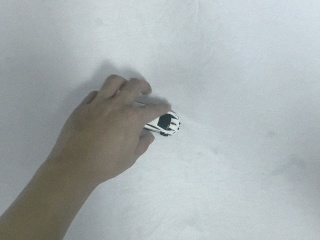phone: (143, 110, 181, 136)
